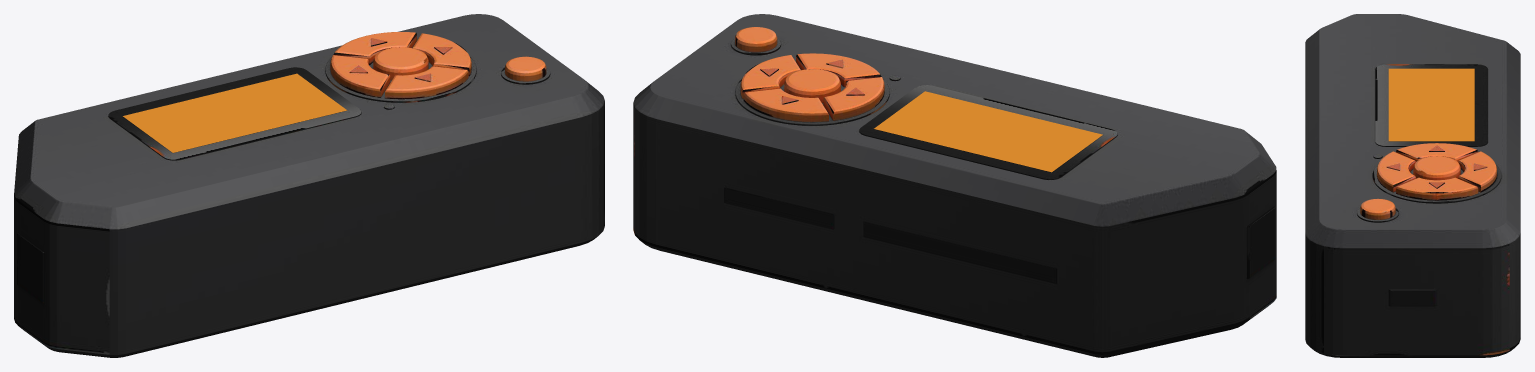
File: handheld.glb
The picture shows the model from 3 angles, left to right: view 1: azimuth 30°, elevation 25°; view 2: azimuth 150°, elevation 25°; view 3: azimuth 270°, elevation 25°; orthographic projection. The views are drawn at different scales.
Visible parts, largest first — view 1: flipper-body, flipper-screen, flipper-btn-down, flipper-btn-left, flipper-btn-up, flipper-btn-right, flipper-btn-ok, flipper-btn-back; view 2: flipper-body, flipper-screen, flipper-btn-up, flipper-btn-left, flipper-btn-down, flipper-btn-right, flipper-btn-ok, flipper-btn-back; view 3: flipper-body, flipper-screen, flipper-btn-right, flipper-btn-up, flipper-btn-down, flipper-btn-left, flipper-btn-ok, flipper-btn-back.
Part boxes in pixels (box(x1,y1,x2,y2)): flipper-body: box(14, 14, 604, 357); flipper-screen: box(123, 73, 347, 152); flipper-btn-down: box(385, 66, 468, 99); flipper-btn-left: box(330, 55, 390, 97); flipper-btn-up: box(333, 32, 416, 64); flipper-btn-right: box(413, 33, 471, 76); flipper-btn-ok: box(373, 47, 428, 80); flipper-btn-back: box(505, 56, 546, 81); flipper-body: box(633, 14, 1276, 357); flipper-screen: box(874, 91, 1102, 172); flipper-btn-up: box(743, 88, 828, 122); flipper-btn-left: box(823, 77, 884, 120); flipper-btn-down: box(796, 53, 881, 86); flipper-btn-right: box(740, 55, 800, 98); flipper-btn-ok: box(784, 69, 840, 102); flipper-btn-back: box(735, 27, 777, 52); flipper-body: box(1305, 14, 1520, 357); flipper-screen: box(1388, 68, 1474, 141); flipper-btn-right: box(1396, 177, 1478, 200); flipper-btn-up: box(1458, 151, 1496, 192); flipper-btn-down: box(1377, 151, 1415, 192); flipper-btn-left: box(1396, 143, 1478, 161); flipper-btn-ok: box(1413, 156, 1460, 180); flipper-btn-back: box(1360, 198, 1395, 219).
Bounding box in the file's own units: 0.1007 × 0.028 × 0.0402.
2 materials, 1 textured.
